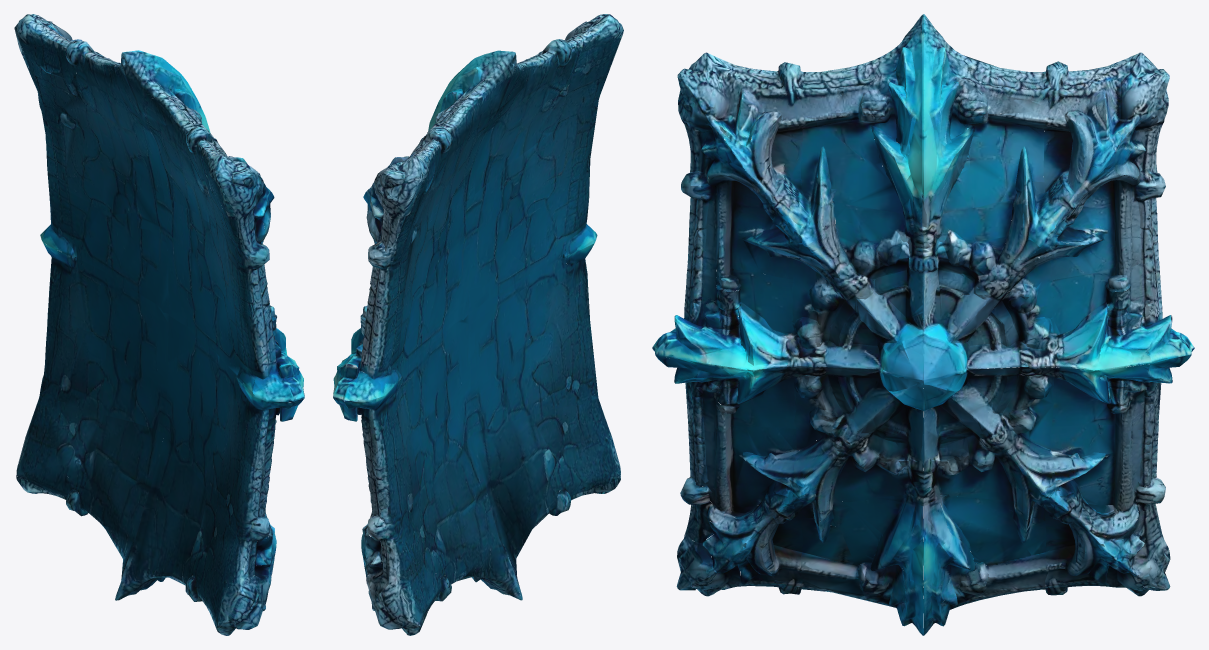
3 views of the same model, side by side, from view 1: azimuth 30°, elevation 25°; view 2: azimuth 150°, elevation 25°; view 3: azimuth 270°, elevation 25° (orthographic). The views are drawn at different scales.
Parts seen in each view (by area): view 1: tripo_node_cc90929b-4306-4ceb-8d6b-d40fa3d8ef8d; view 2: tripo_node_cc90929b-4306-4ceb-8d6b-d40fa3d8ef8d; view 3: tripo_node_cc90929b-4306-4ceb-8d6b-d40fa3d8ef8d.
Boxes of the visible parts, x1=… form: tripo_node_cc90929b-4306-4ceb-8d6b-d40fa3d8ef8d: x1=14, y1=14, x2=304, y2=635; tripo_node_cc90929b-4306-4ceb-8d6b-d40fa3d8ef8d: x1=333, y1=14, x2=623, y2=635; tripo_node_cc90929b-4306-4ceb-8d6b-d40fa3d8ef8d: x1=652, y1=14, x2=1194, y2=635.
Bounding box in the file's own units: 0.2357 × 0.9994 × 0.8009.
1 material, 1 textured.
